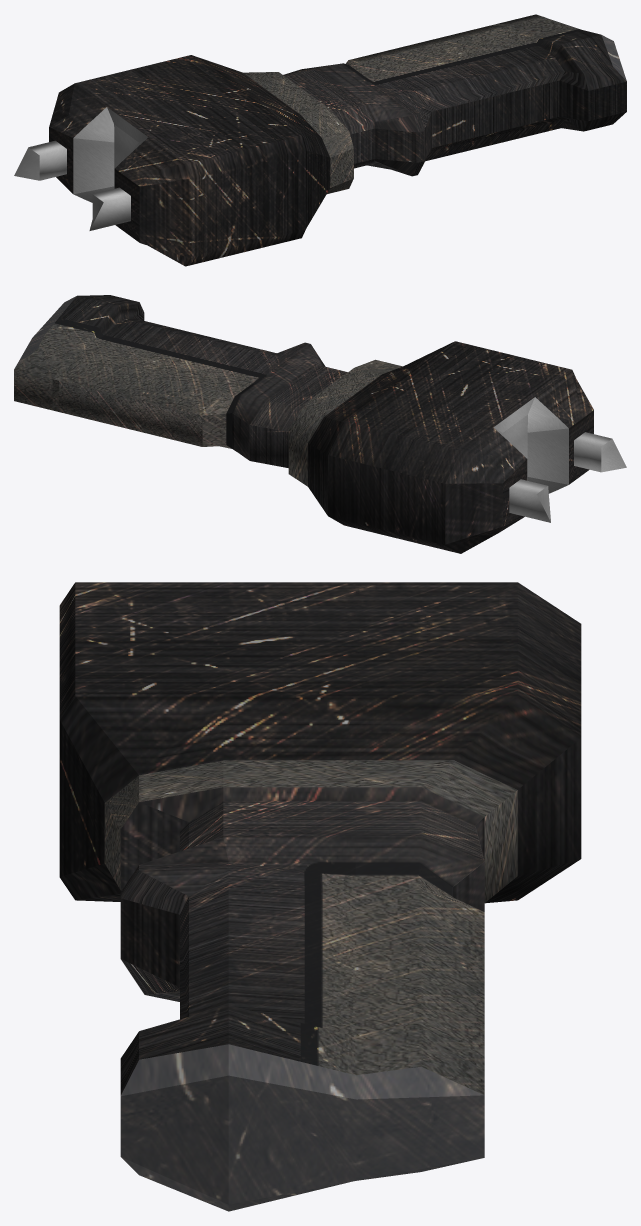
The model's file is Taser.fbx.
3 renders of one model, top to bottom at view 1: azimuth 30°, elevation 25°; view 2: azimuth 150°, elevation 25°; view 3: azimuth 270°, elevation 25°, orthographic. The views are drawn at different scales.
Visible parts, largest first — view 1: pCube27; view 2: pCube27; view 3: pCube27.
Part boxes in pixels (left/top/right/bottom): pCube27: left=14, top=14, right=626, bottom=266; pCube27: left=14, top=295, right=626, bottom=553; pCube27: left=59, top=582, right=581, bottom=1211.
Size of the model in its own units: 7.8 by 1.41 by 3.25.
